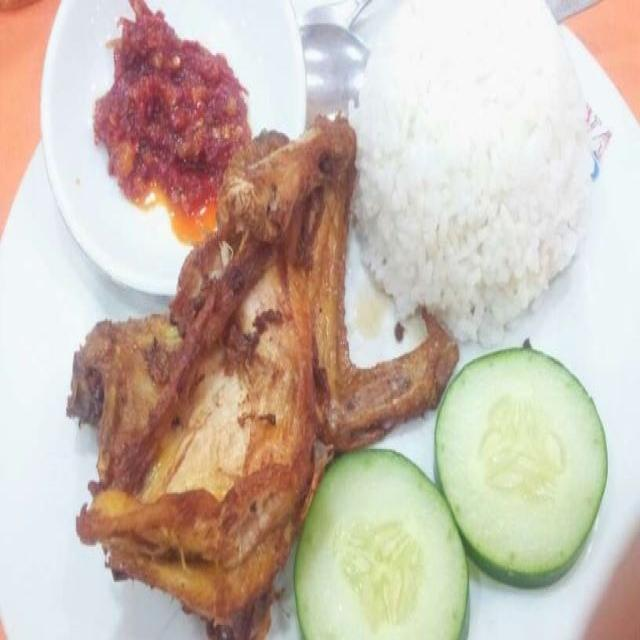鸡肉料理 含炸鸡: (28, 15, 606, 633)
